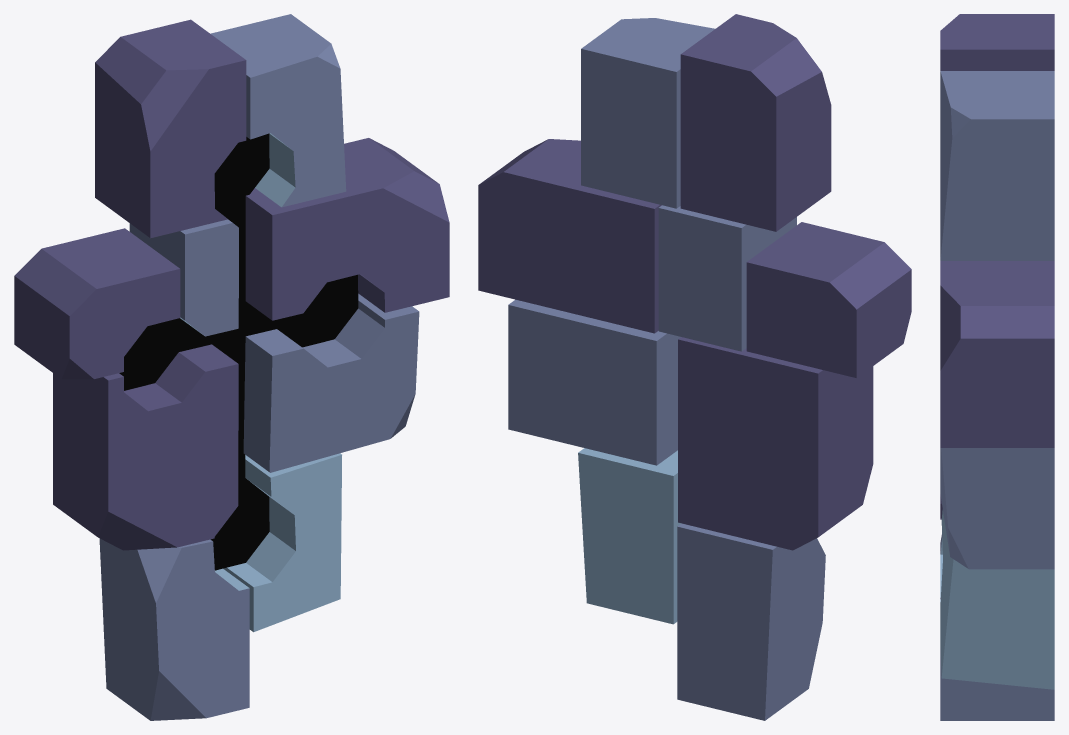
File: Window_LoopHole_Kross_01.fbx
3 views of the same model, side by side, from view 1: azimuth 30°, elevation 25°; view 2: azimuth 150°, elevation 25°; view 3: azimuth 270°, elevation 25° (orthographic). The views are drawn at different scales.
Parts seen in each view (by area): view 1: Window_LoopHole_Kross_1; view 2: Window_LoopHole_Kross_1; view 3: Window_LoopHole_Kross_1.
Boxes of the visible parts, x1,y1,x2,y2 form: Window_LoopHole_Kross_1: [14, 14, 449, 720]; Window_LoopHole_Kross_1: [478, 14, 911, 720]; Window_LoopHole_Kross_1: [940, 14, 1054, 720].
Bounding box in the file's own units: 232 × 378 × 58.63.
